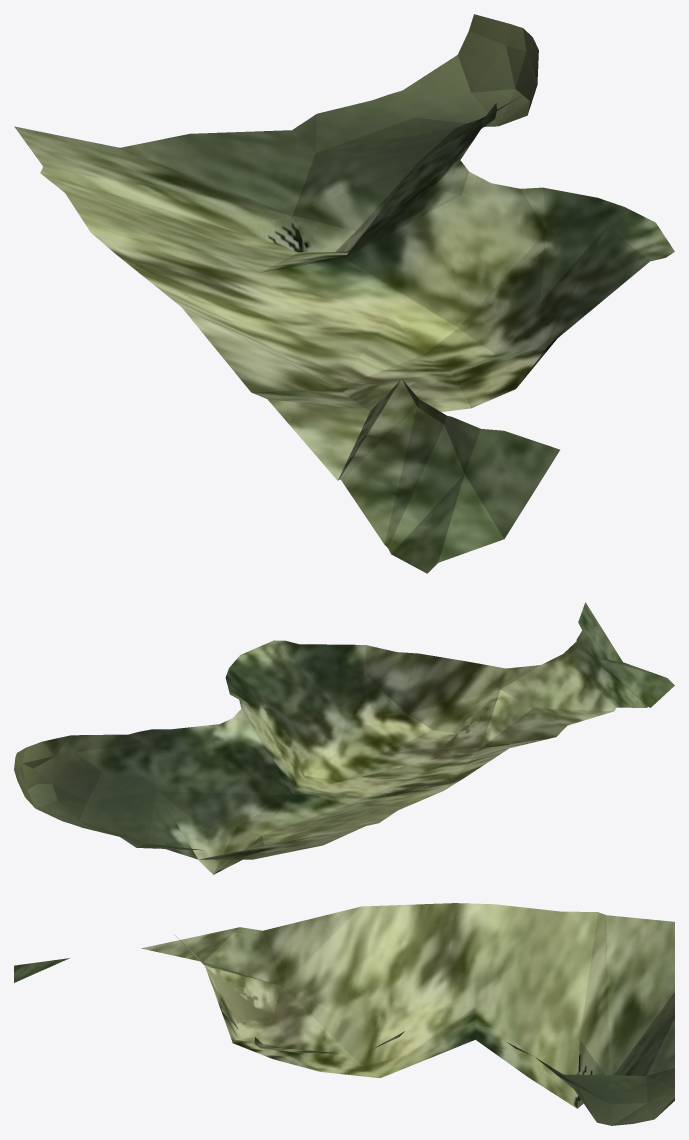
The picture shows the model from 3 angles, top to bottom: view 1: azimuth 30°, elevation 25°; view 2: azimuth 150°, elevation 25°; view 3: azimuth 270°, elevation 25°; orthographic projection. The views are drawn at different scales.
Bounding box in the file's own units: 1.95 × 0.5262 × 2.95.
Materials: 1 (1 with a texture image).
